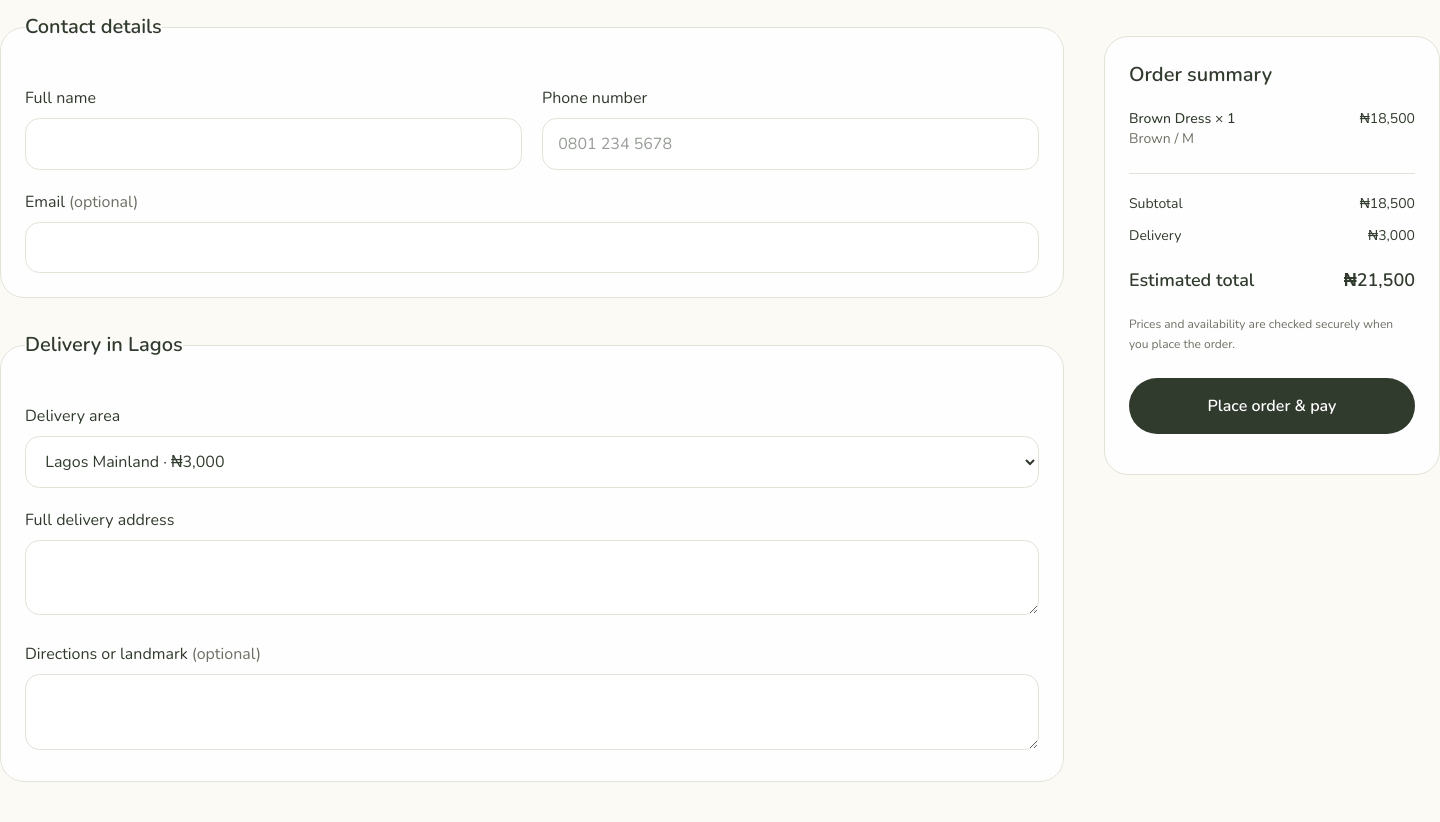
Test: CheckoutForm › shows safe API and network failures
Type "Ada Okafor" into the field labelled "Full name" at [274, 144], box x1=25 y1=118 x2=522 y2=170
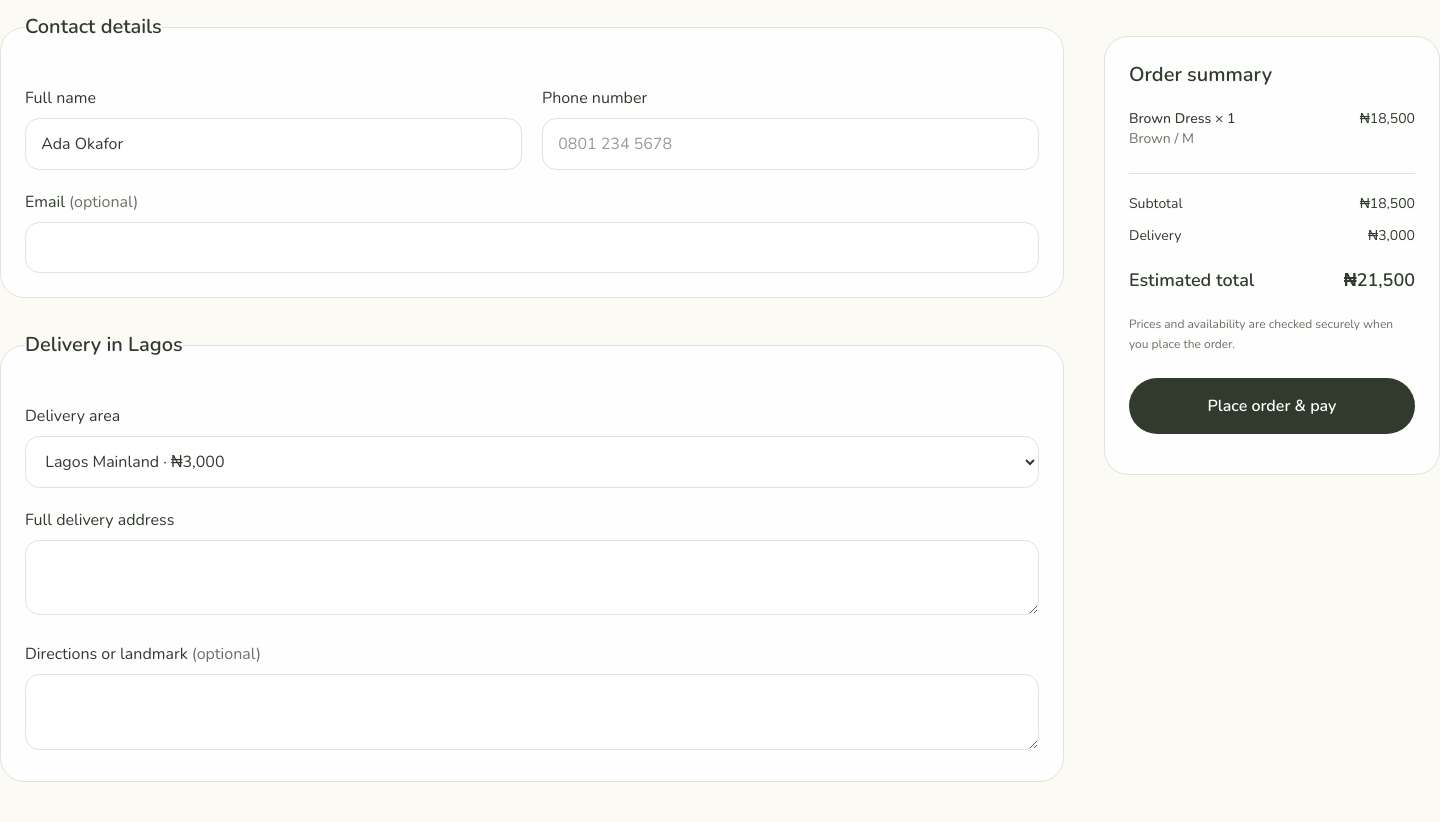
Type "08012345678" into the field labelled "Phone number" at [790, 144], box x1=542 y1=118 x2=1039 y2=170
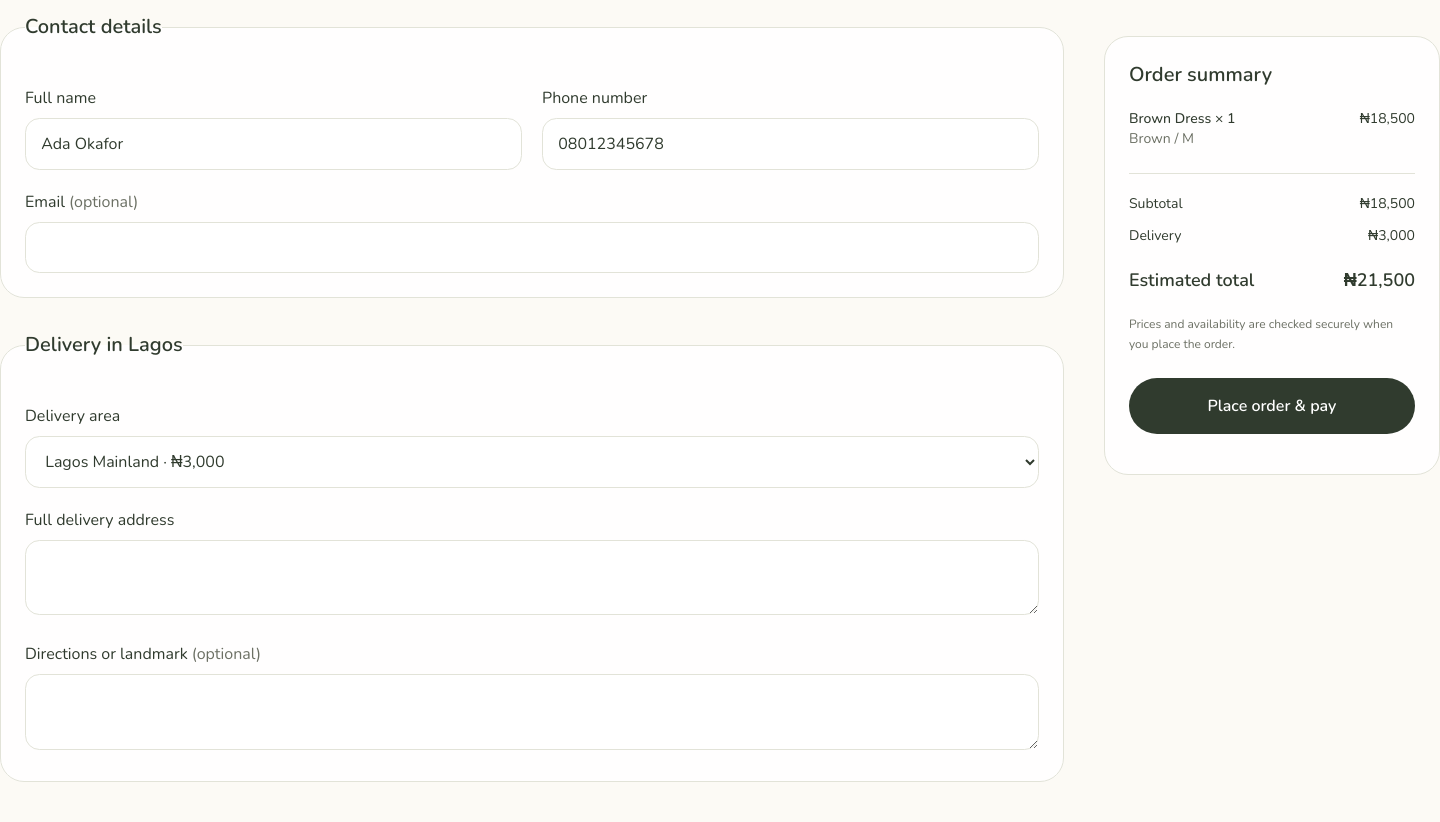
Type "12 Example Street, Lagos" into the text box labelled "Full delivery address" at [532, 578], box x1=25 y1=540 x2=1039 y2=615
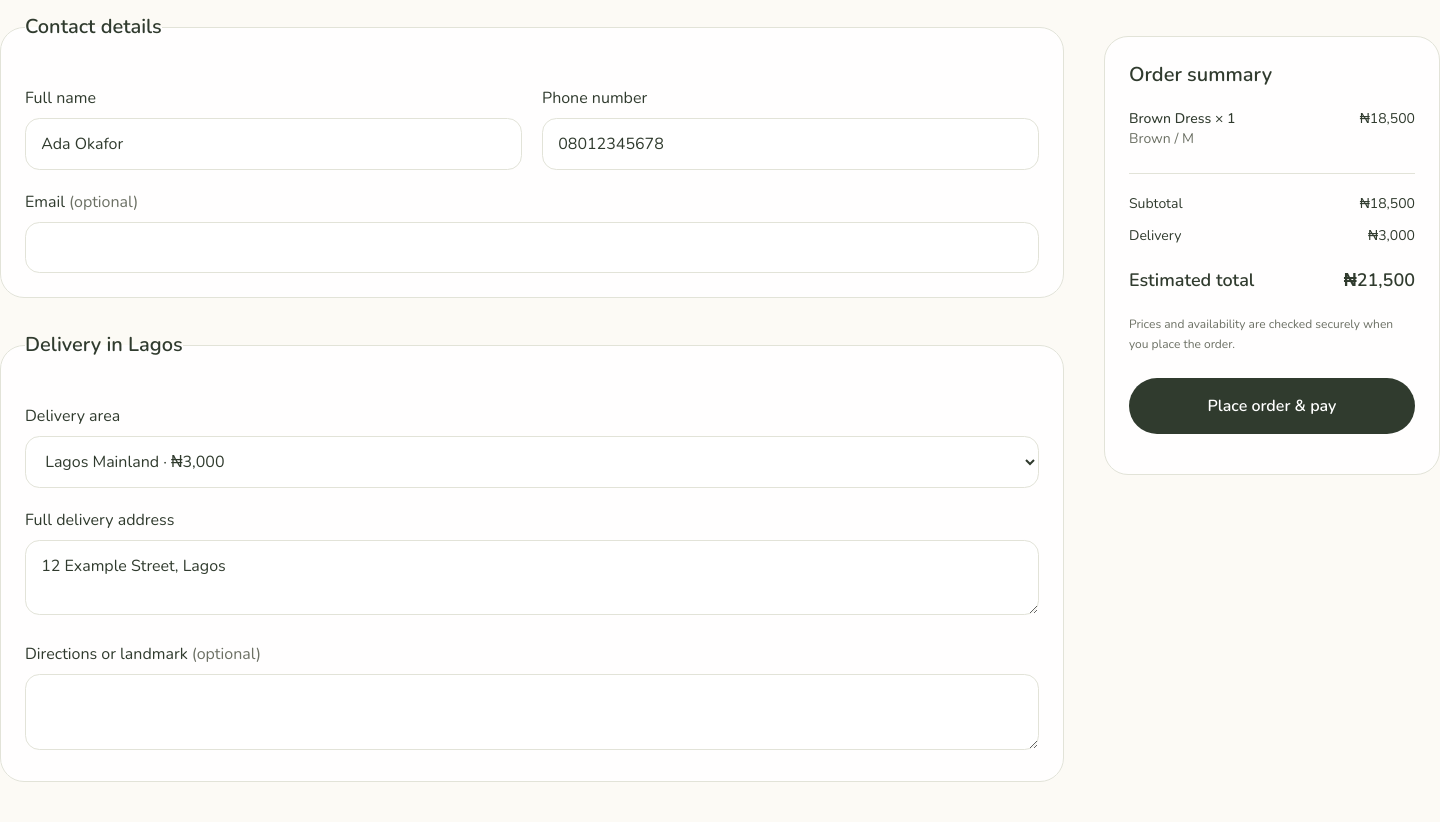
Click the button "Place order & pay" at [1272, 406], box x1=1129 y1=378 x2=1415 y2=434
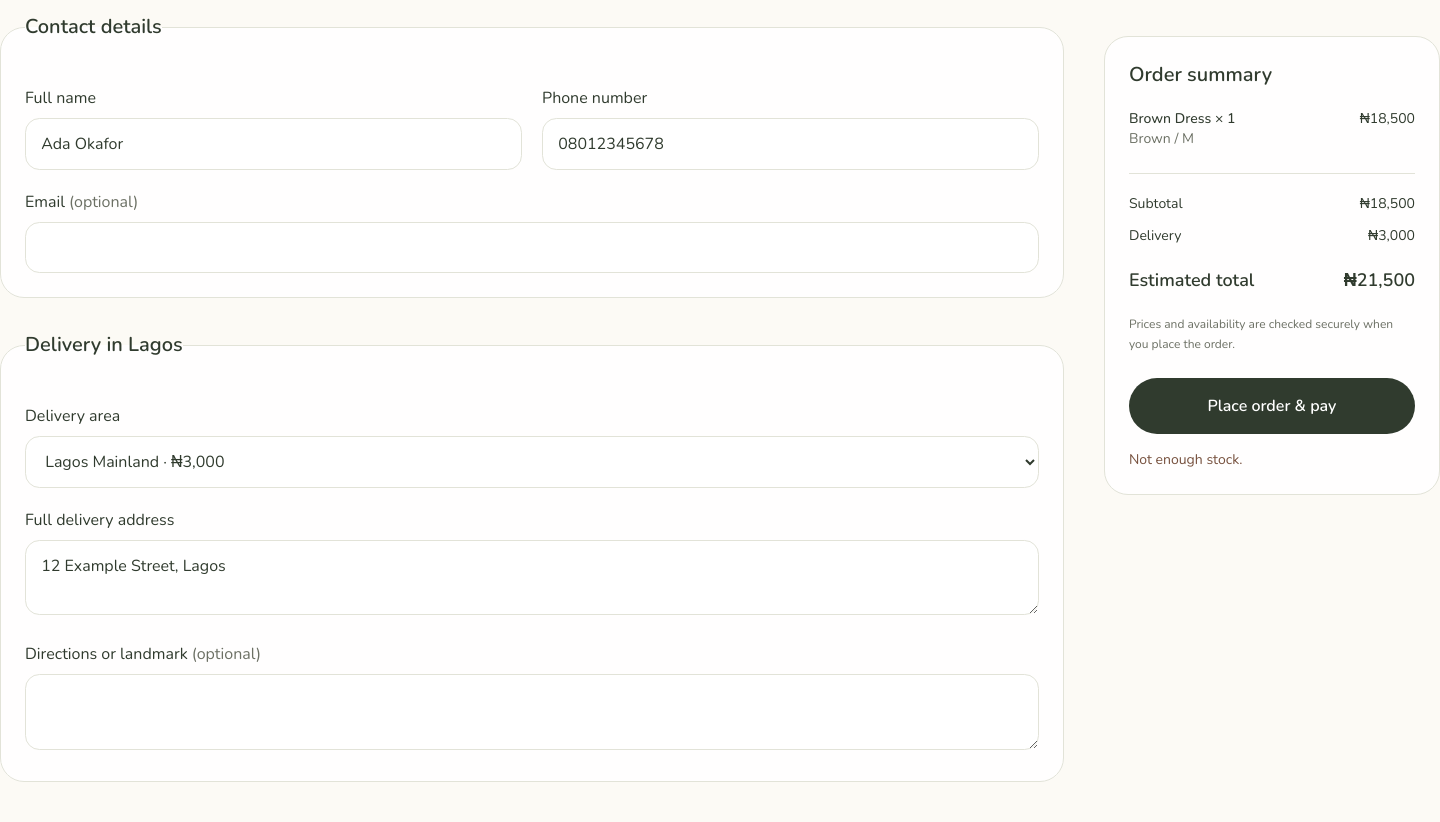
Expected: the text "Not enough stock." is shown, x1=1129 y1=450 x2=1242 y2=469
Click the button "Place order & pay" at [1272, 406], box x1=1129 y1=378 x2=1415 y2=434
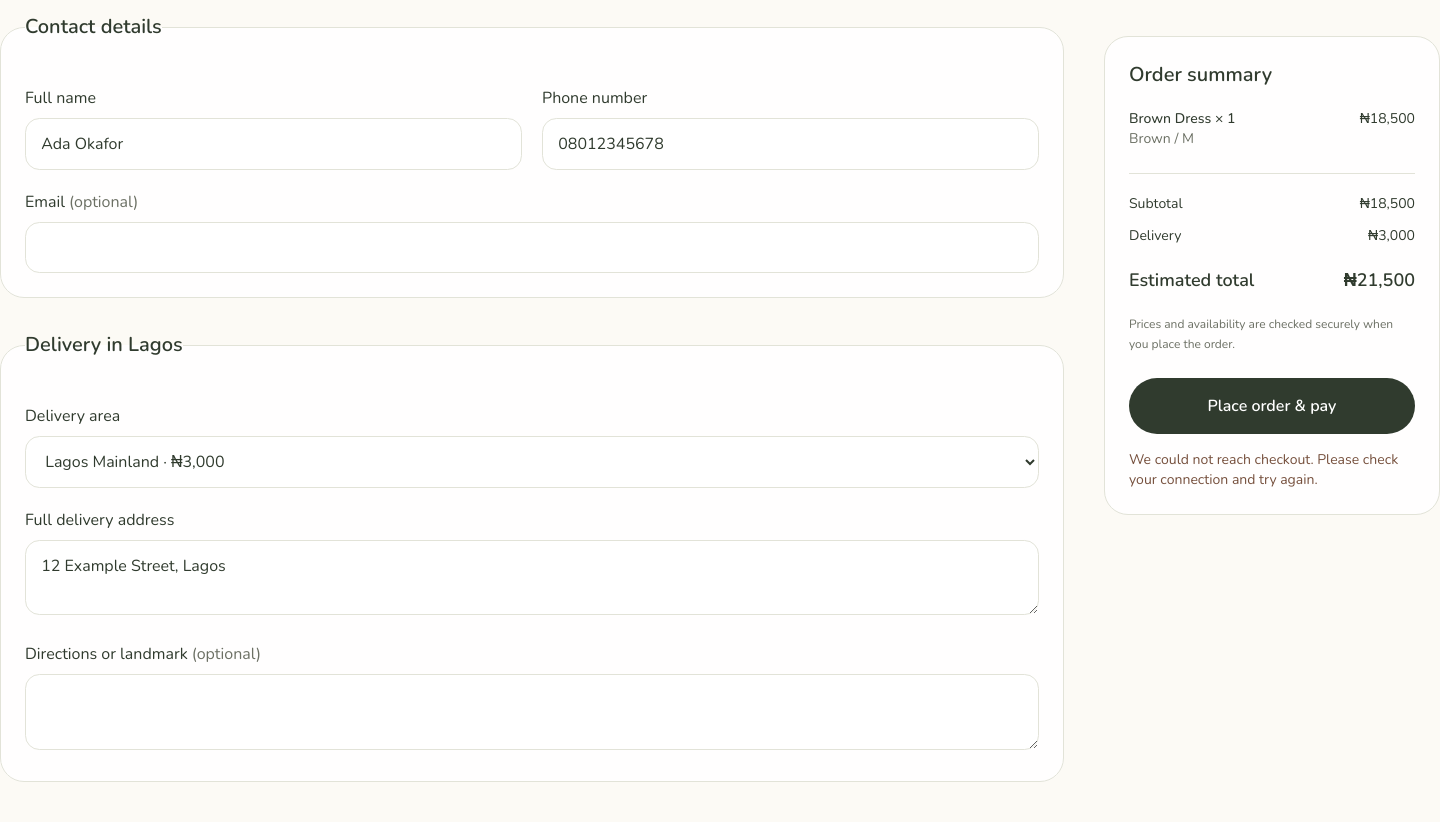
Expected: the text "We could not reach checkout. Please check your connection and try again." is shown, x1=1129 y1=450 x2=1415 y2=490
